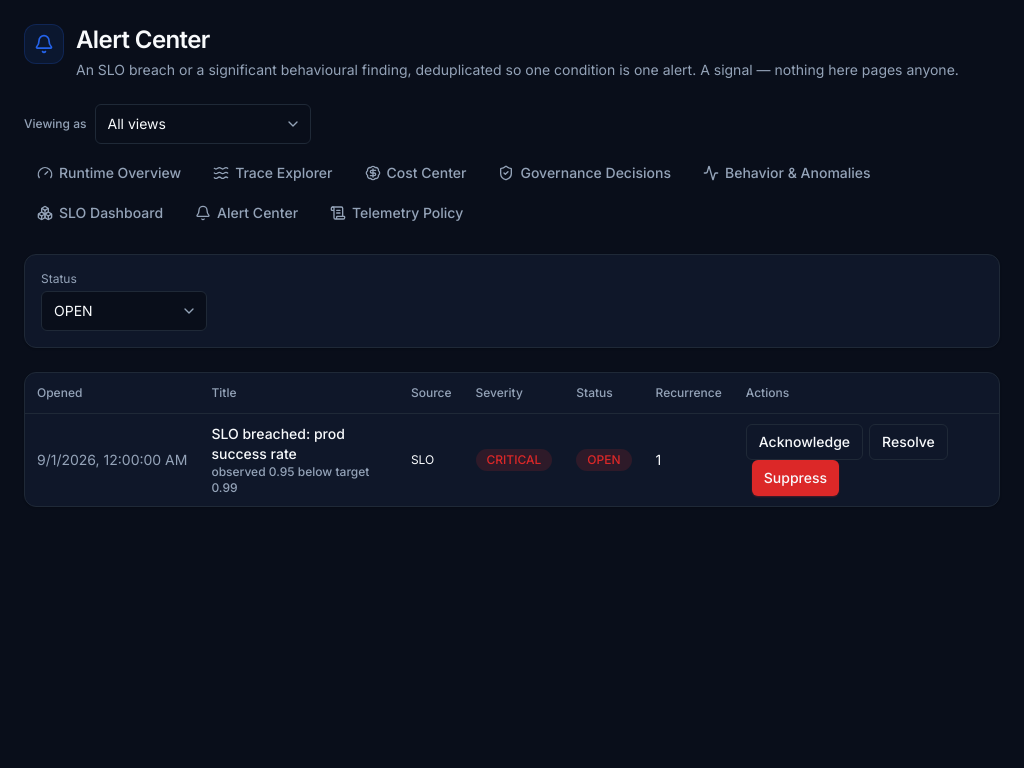
AC-10 / AC-12 — SLO dashboard and guarded alert actions › suppress is confirmation-gated with a required reason
Click the button "Suppress" at (795, 478), box [752,460,839,496]
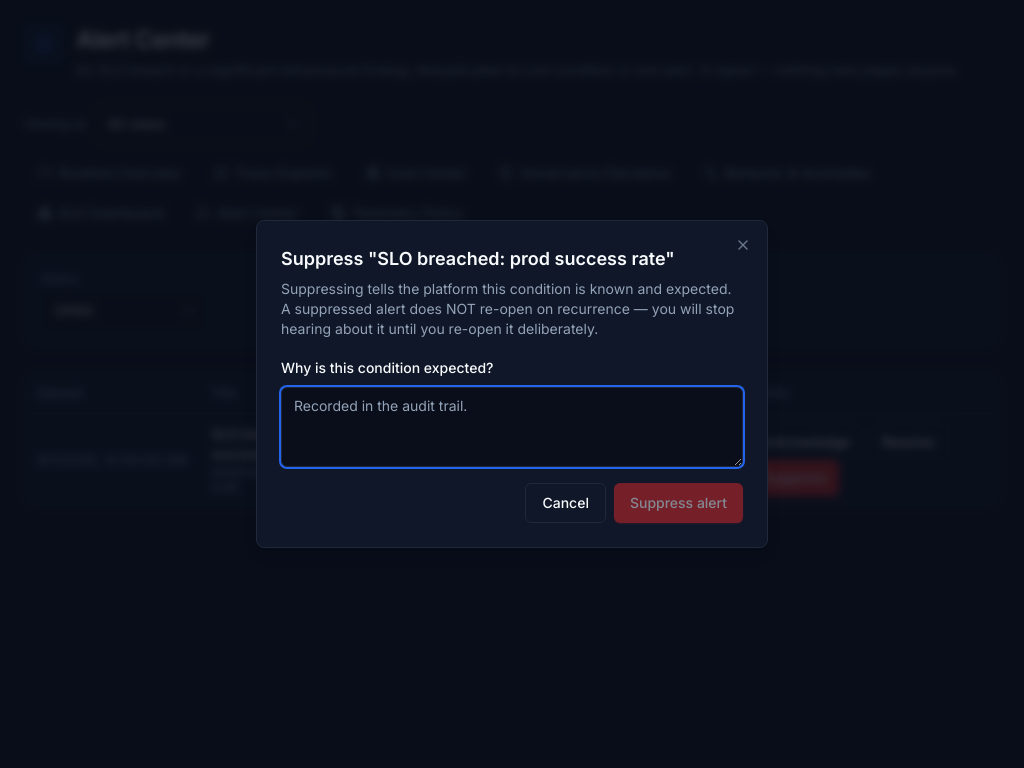
expect the button "Suppress alert" is disabled: met, box [614,483,743,523]
Type "known load test" into the text box labelled "Why is this condition expected?" at (512, 427), box [281,387,743,467]
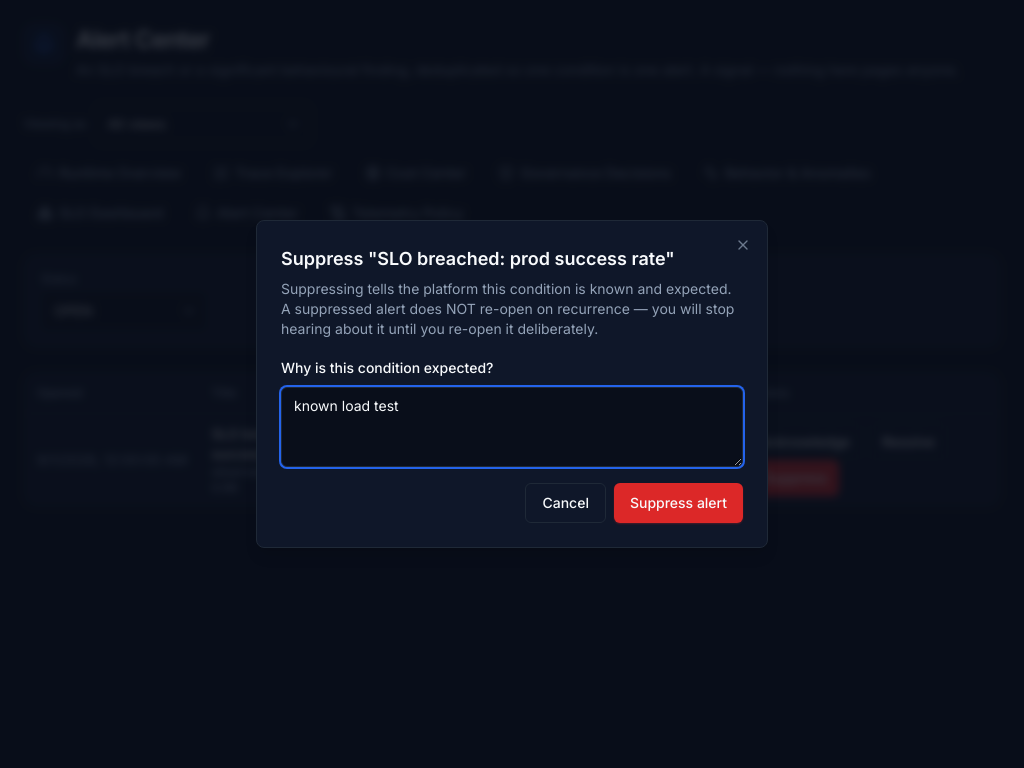
expect the button "Suppress alert" is enabled: met, box [614,483,743,523]
